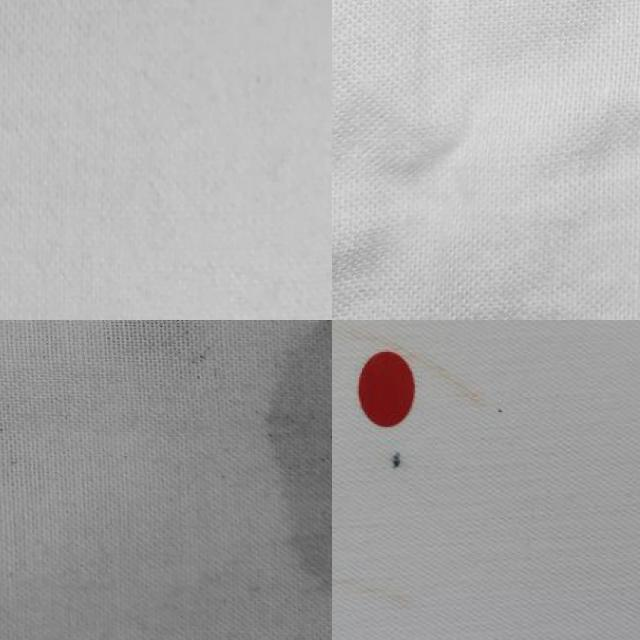Hole: (237, 320, 332, 640), (342, 431, 456, 518)
